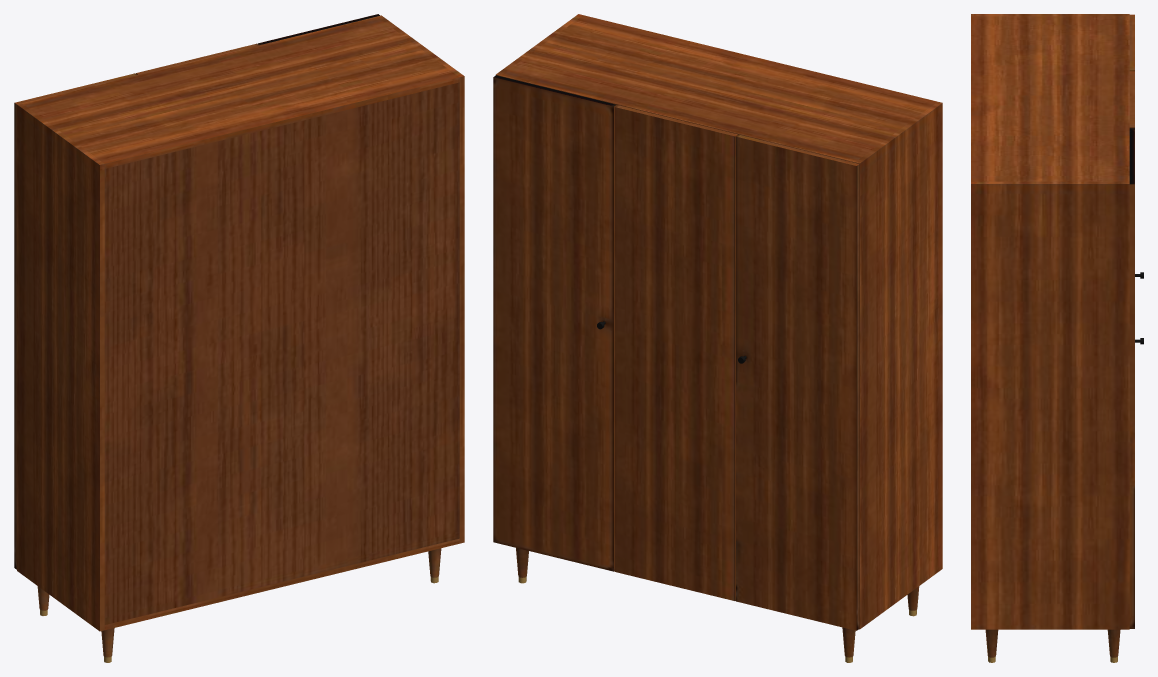
File: wardrobe_3door_web.glb
3 renders of one model, left to right at view 1: azimuth 30°, elevation 25°; view 2: azimuth 150°, elevation 25°; view 3: azimuth 270°, elevation 25°, orthographic. The views are drawn at different scales.
Visible parts, largest first — view 1: Wardrobe3Door_Body, Door_1_3_Mesh; view 2: Wardrobe3Door_Body, Door_1_3_Mesh, Door_1_2_Mesh, Door_1_1_Mesh; view 3: Wardrobe3Door_Body, Door_1_1_Mesh, Door_1_3_Mesh, Door_1_2_Mesh.
Boxes of the visible parts, left/top/right/bottom form: Wardrobe3Door_Body: left=17, top=15, right=464, bottom=657; Door_1_3_Mesh: left=14, top=73, right=136, bottom=569; Wardrobe3Door_Body: left=496, top=14, right=942, bottom=657; Door_1_3_Mesh: left=736, top=134, right=859, bottom=630; Door_1_2_Mesh: left=614, top=105, right=737, bottom=600; Door_1_1_Mesh: left=493, top=75, right=616, bottom=571; Wardrobe3Door_Body: left=971, top=14, right=1129, bottom=657; Door_1_1_Mesh: left=1129, top=128, right=1134, bottom=628; Door_1_3_Mesh: left=1129, top=14, right=1134, bottom=71; Door_1_2_Mesh: left=1129, top=71, right=1134, bottom=127.
Bounding box in the file's own units: 1.35 × 1.8 × 0.58.
Materials: 3 (3 with a texture image).
